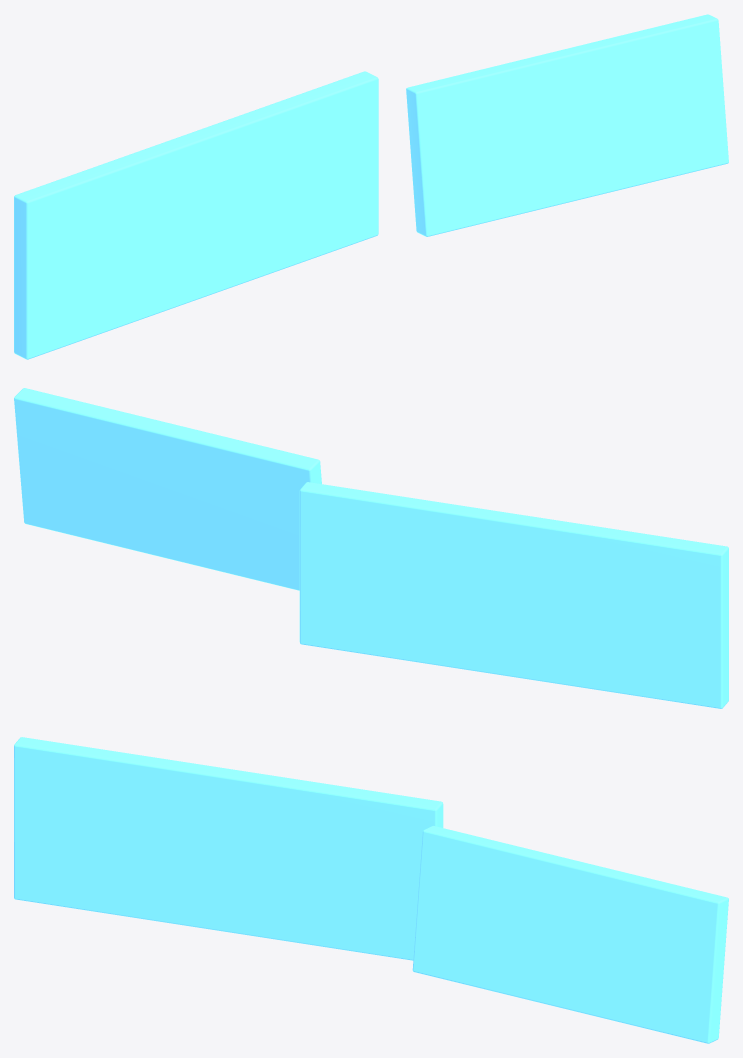
Rendered from interior_digital_screens.glb.
3 renders of one model, top to bottom at view 1: azimuth 30°, elevation 25°; view 2: azimuth 150°, elevation 25°; view 3: azimuth 330°, elevation 25°, orthographic. The views are drawn at different scales.
Parts seen in each view (by area): view 1: GEO_Interior_Digital_Screens; view 2: GEO_Interior_Digital_Screens; view 3: GEO_Interior_Digital_Screens.
Boxes of the visible parts, x1,y1,x2,y2 form: GEO_Interior_Digital_Screens: (14, 14, 728, 359); GEO_Interior_Digital_Screens: (14, 388, 728, 708); GEO_Interior_Digital_Screens: (14, 737, 728, 1043).
Bounding box in the file's own units: 0.7482 × 0.1604 × 0.0919.
